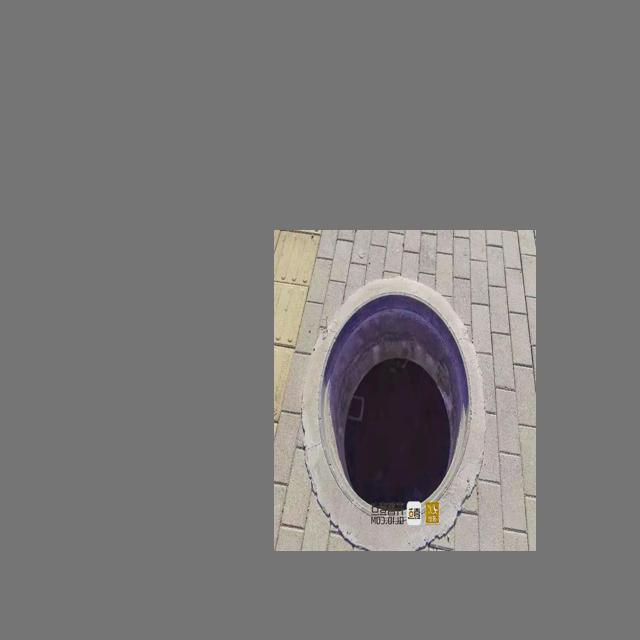lose: (302, 276, 486, 544)
